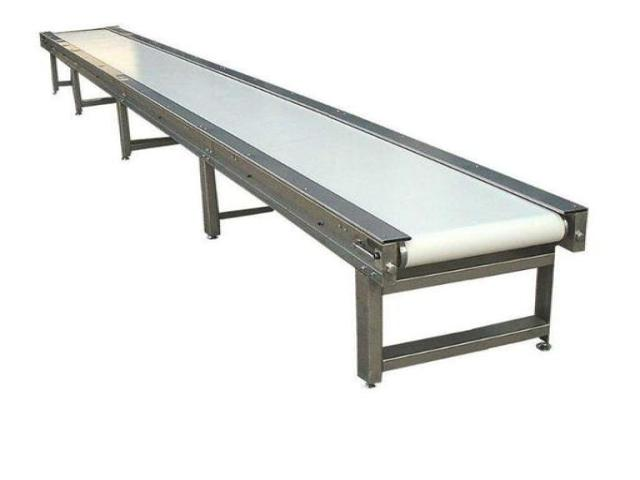conveyor: (35, 23, 591, 388)
